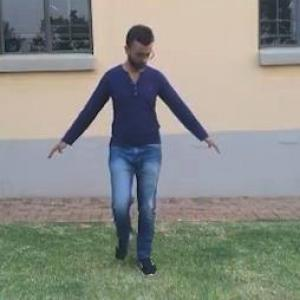land: (46, 11, 242, 262)
